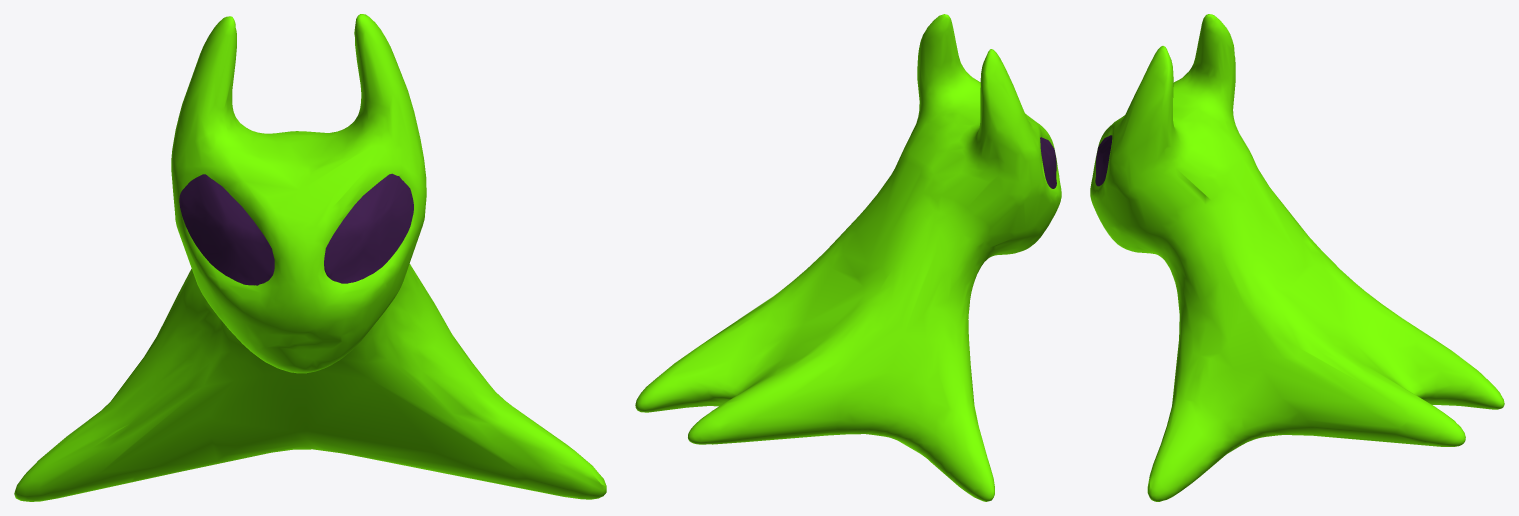
Rendered from Toy156.fbx.
3 renders of one model, left to right at view 1: azimuth 30°, elevation 25°; view 2: azimuth 150°, elevation 25°; view 3: azimuth 270°, elevation 25°, orthographic. The views are drawn at different scales.
Parts seen in each view (by area): view 1: Toy156; view 2: Toy156; view 3: Toy156.
Boxes of the visible parts, x1,y1,x2,y2 form: Toy156: (14,14,606,501); Toy156: (635,14,1061,501); Toy156: (1090,14,1504,501).
Bounding box in the file's own units: 0.1641 × 0.1901 × 0.1884.
